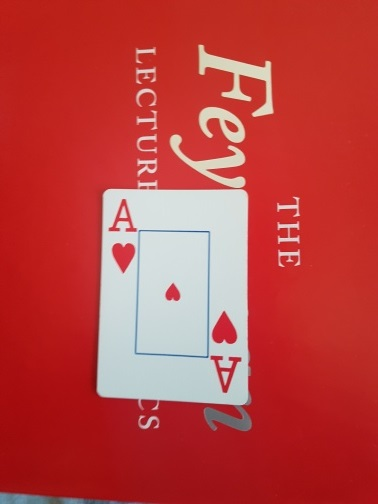ace: (97, 186, 249, 404)
